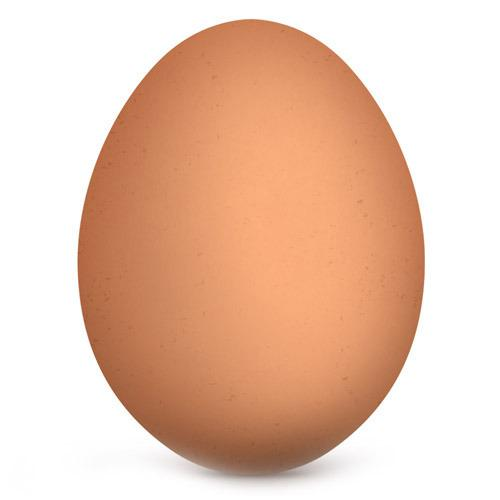egg: (71, 16, 428, 481)
